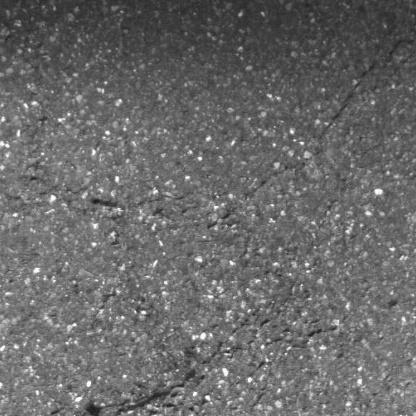Cracks: (68, 364, 199, 416)
